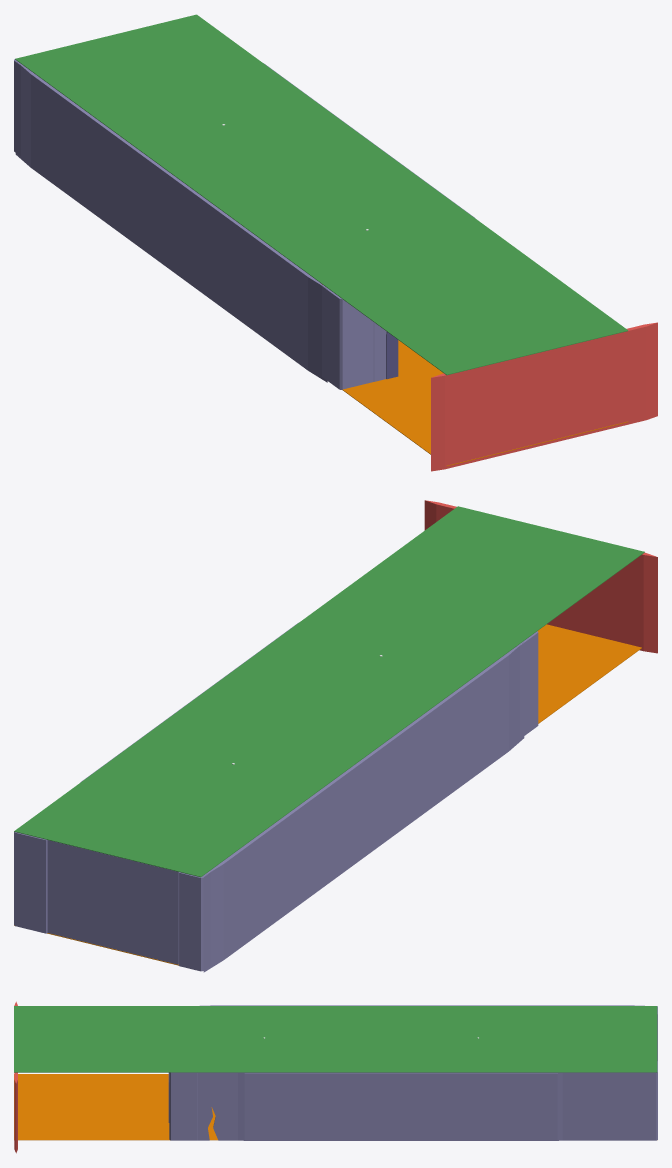
Rendered from ActionShooterCatMouse1.fbx.
The picture shows the model from 3 angles, top to bottom: view 1: azimuth 30°, elevation 25°; view 2: azimuth 150°, elevation 25°; view 3: azimuth 270°, elevation 25°; orthographic projection. The views are drawn at different scales.
Visible parts, largest first — view 1: roof_flatCenter (×2), wall (×2), wall_corner (×2), doorway_wideRound; view 2: roof_flatCenter (×2), wall (×3), wall_corner (×3); view 3: roof_flatCenter (×2), wall (×4), wall_corner (×2), wall_destroyedCrack.
Part boxes in pixels (x1=…): roof_flatCenter (×2): x1=15, y1=14, x2=628, y2=466; wall (×2): x1=15, y1=61, x2=657, y2=471; wall_corner (×2): x1=14, y1=59, x2=372, y2=389; doorway_wideRound: x1=373, y1=321, x2=398, y2=381; roof_flatCenter (×2): x1=14, y1=506, x2=644, y2=965; wall (×3): x1=47, y1=500, x2=657, y2=972; wall_corner (×3): x1=14, y1=631, x2=538, y2=971; roof_flatCenter (×2): x1=14, y1=1006, x2=657, y2=1140; wall (×4): x1=14, y1=1001, x2=644, y2=1153; wall_corner (×2): x1=169, y1=1061, x2=657, y2=1140; wall_destroyedCrack: x1=197, y1=1072, x2=237, y2=1140.
Size of the model in its own units: 180 by 71.88 by 593.
